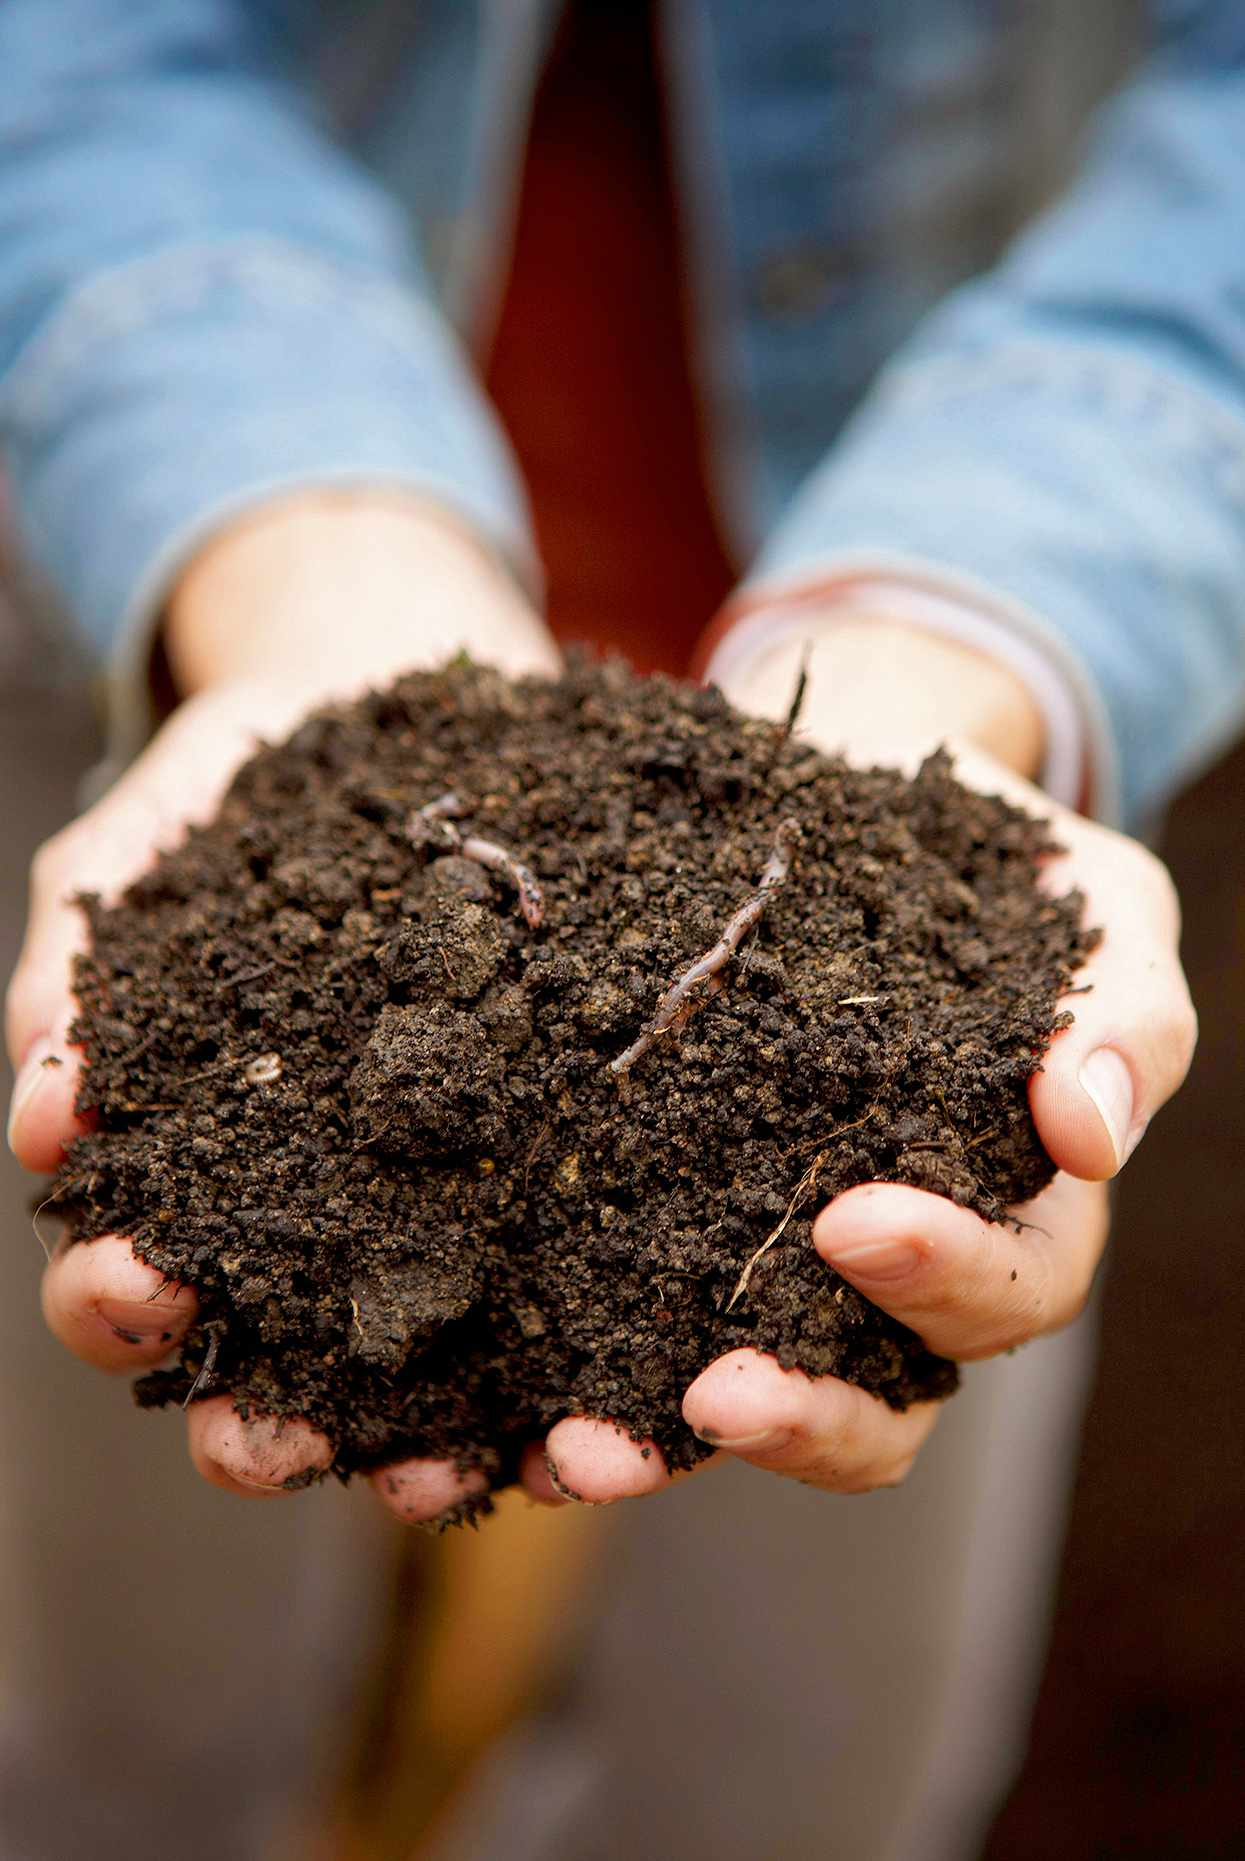dirt: (63, 671, 1069, 1451)
